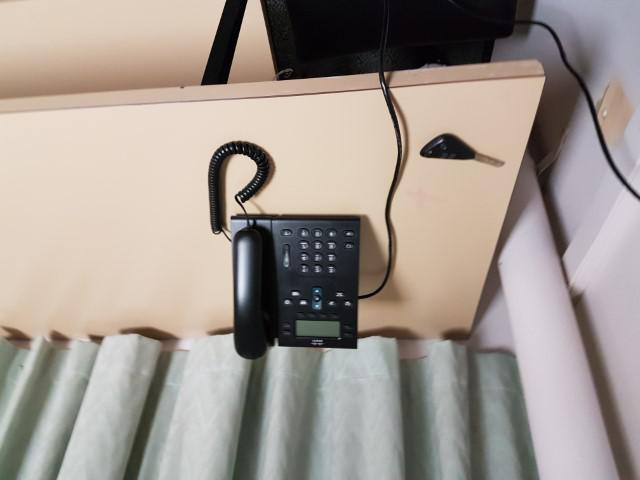key: (420, 133, 506, 167)
